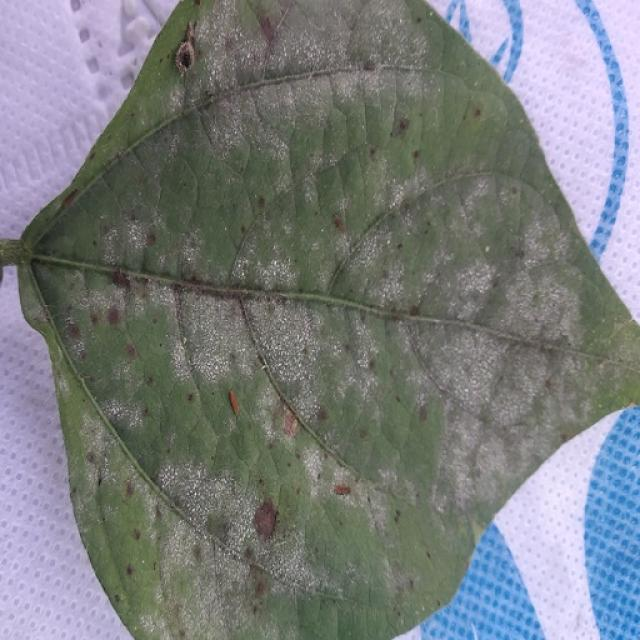Blackgram: (0, 0, 639, 639)
Powdery_Mildew: (212, 67, 415, 216), (81, 286, 176, 424), (415, 318, 521, 418), (241, 290, 330, 401), (483, 252, 582, 344), (253, 502, 341, 603), (155, 514, 222, 635), (262, 5, 368, 77), (182, 293, 257, 393), (339, 212, 422, 301), (344, 1, 430, 71), (199, 94, 268, 171), (429, 253, 500, 317), (158, 460, 220, 526), (100, 214, 158, 270), (244, 248, 299, 295), (76, 413, 109, 477), (330, 466, 357, 495), (141, 559, 146, 565)
